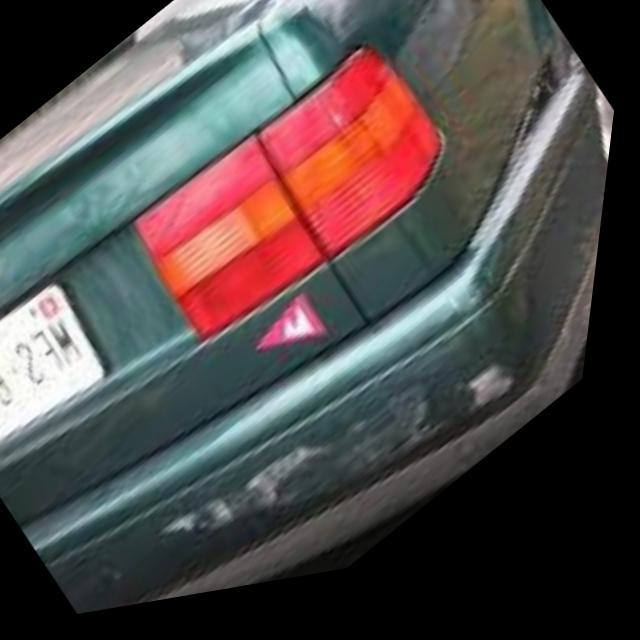dislocated part: (473, 69, 591, 267)
rub: (174, 373, 524, 558)
